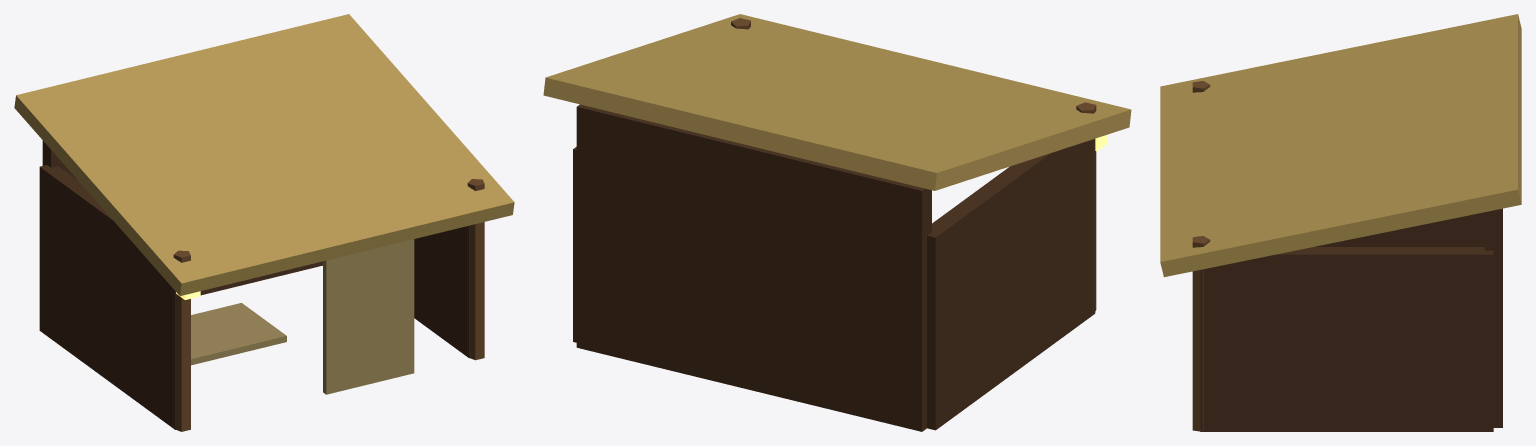
File: soegol_miner_hut.glb
3 renders of one model, left to right at view 1: azimuth 30°, elevation 25°; view 2: azimuth 150°, elevation 25°; view 3: azimuth 270°, elevation 25°, orthographic. The views are drawn at different scales.
Visible parts, largest first — view 1: soegol_miner_hut; view 2: soegol_miner_hut; view 3: soegol_miner_hut.
Boxes of the visible parts, <box> form: soegol_miner_hut: <box>14,14,514,431</box>; soegol_miner_hut: <box>543,14,1131,431</box>; soegol_miner_hut: <box>1160,14,1521,431</box>.
Size of the model in its own units: 3.4 by 2.25 by 2.96.
